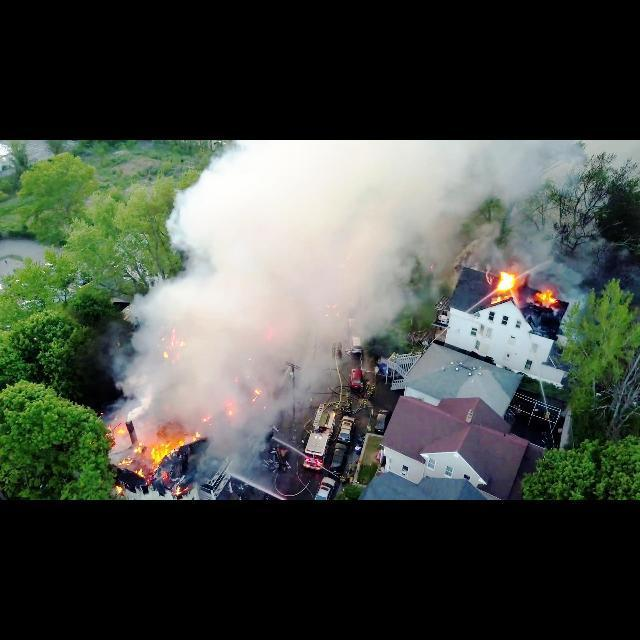Fire: (144, 435, 176, 465), (498, 260, 520, 294)
Smoke: (238, 146, 476, 232), (212, 250, 296, 338)
